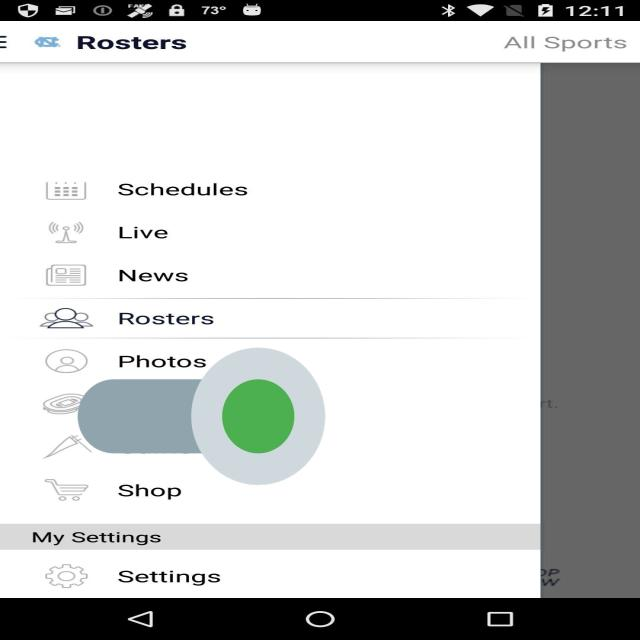social proof: (78, 290, 325, 544)
